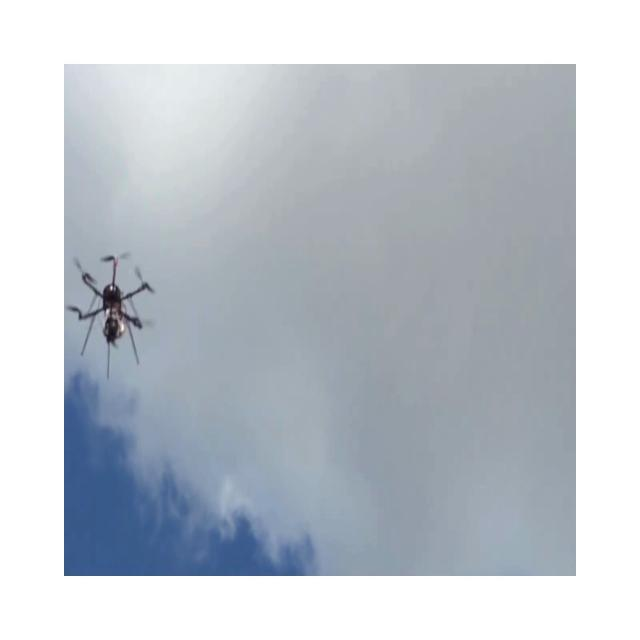drone: (66, 251, 155, 379)
